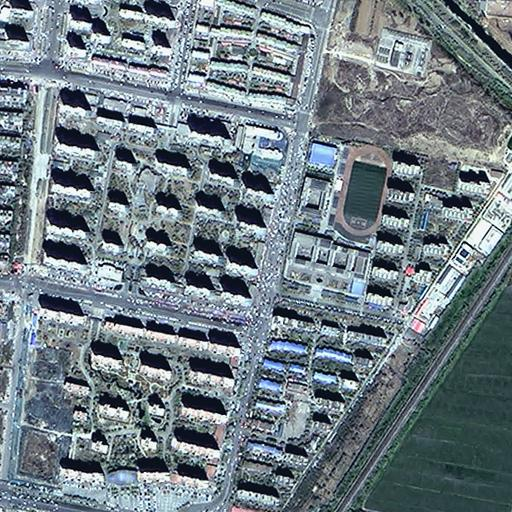school: (279, 134, 393, 302)
